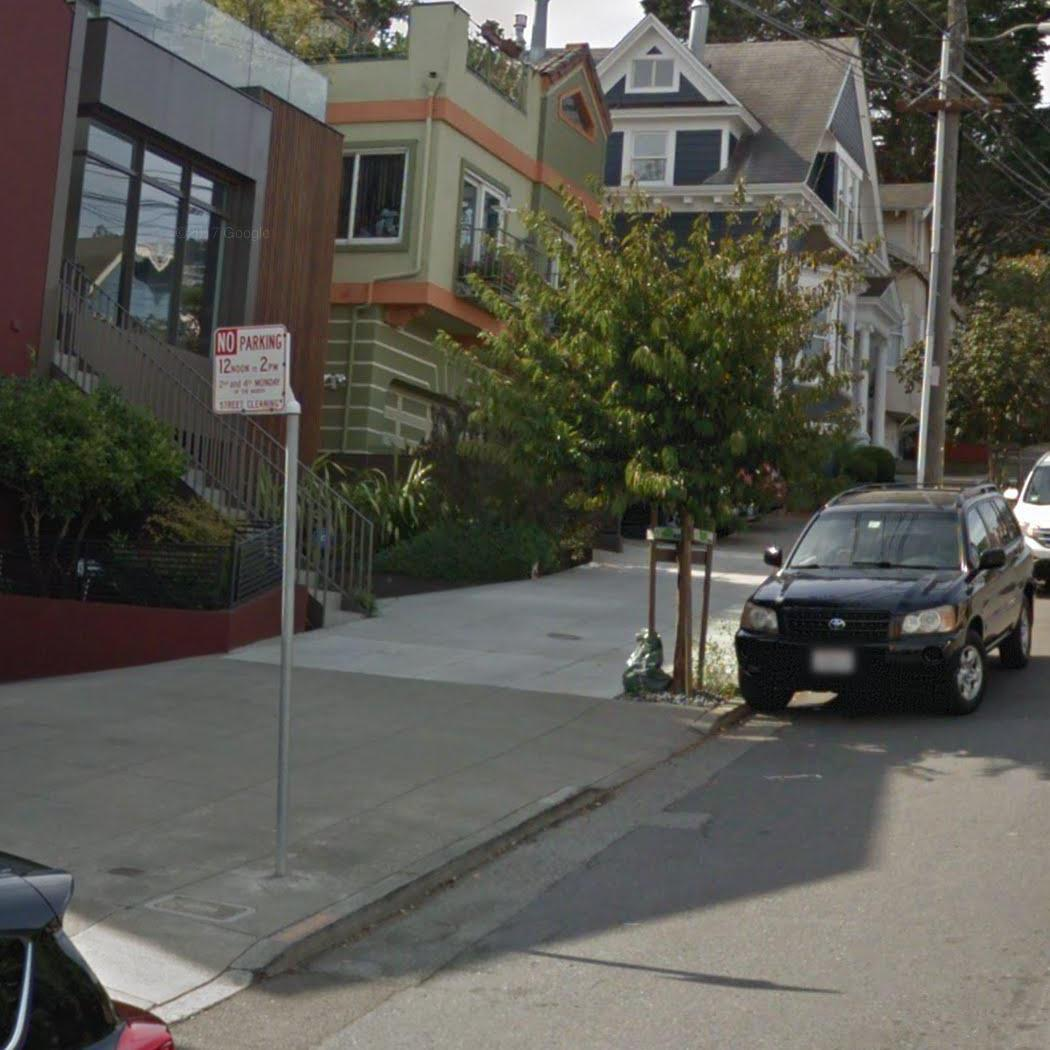No Parking: (205, 320, 295, 418)
